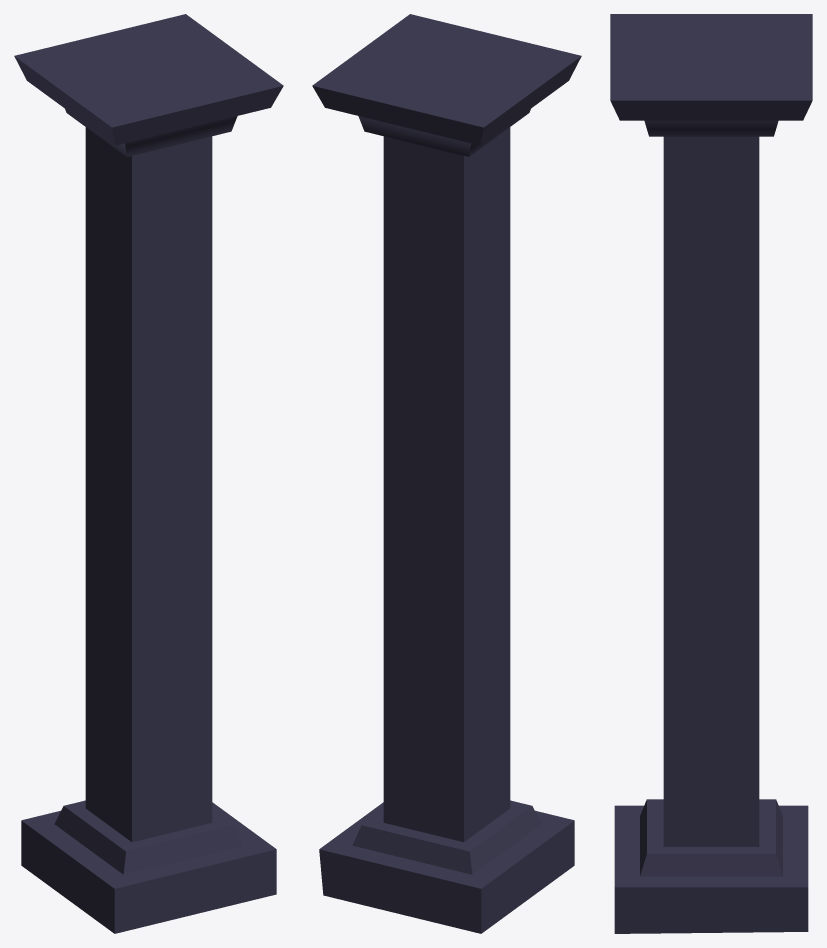
The model's file is SM_Pilier.fbx.
3 renders of one model, left to right at view 1: azimuth 30°, elevation 25°; view 2: azimuth 150°, elevation 25°; view 3: azimuth 270°, elevation 25°, orthographic. The views are drawn at different scales.
Visible parts, largest first — view 1: pCube48; view 2: pCube48; view 3: pCube48.
Part boxes in pixels (x1=…): pCube48: x1=14, y1=14, x2=283, y2=933; pCube48: x1=312, y1=14, x2=581, y2=933; pCube48: x1=610, y1=14, x2=812, y2=933.
Size of the model in its own units: 18.64 by 83.92 by 18.42.
